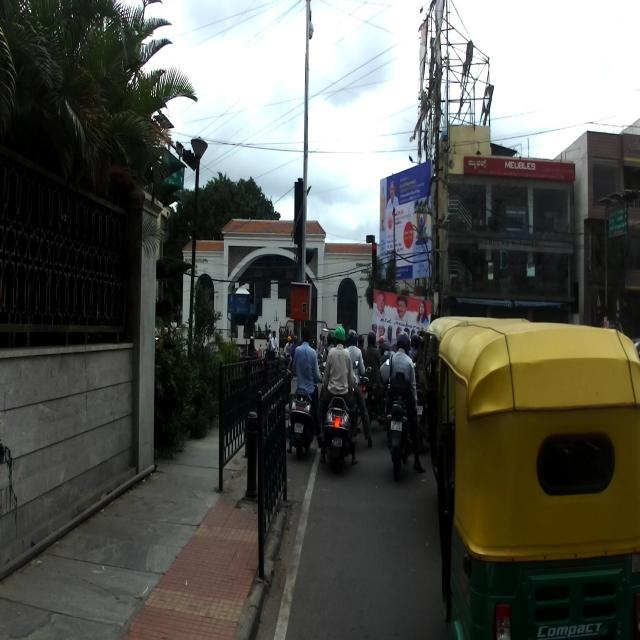autorickshaw: (423, 322, 640, 639), (416, 316, 530, 486)
motorcycle: (384, 358, 418, 481), (347, 366, 373, 438)
scooter: (321, 359, 360, 472), (287, 354, 323, 458)
